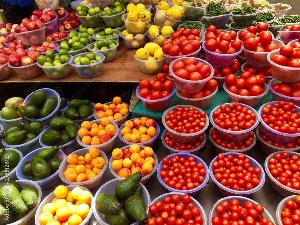apple: (0, 6, 80, 68)
apricot: (37, 186, 91, 224), (111, 141, 157, 179), (64, 147, 106, 187), (77, 118, 117, 148), (121, 114, 159, 144), (92, 100, 128, 124)
avocado: (90, 174, 152, 224), (0, 178, 46, 218), (38, 114, 80, 146), (16, 91, 62, 120), (22, 144, 62, 174), (0, 120, 42, 144), (63, 97, 101, 121), (0, 147, 28, 175)
lemon: (121, 0, 180, 66)
lime: (74, 2, 122, 72)
tomato: (136, 62, 218, 102), (208, 104, 260, 152), (164, 100, 208, 152), (210, 153, 264, 191), (150, 188, 204, 224), (260, 103, 300, 149), (255, 151, 300, 191), (158, 154, 208, 190), (208, 198, 270, 225), (235, 26, 274, 60), (163, 22, 196, 58), (206, 26, 242, 58), (222, 75, 270, 99), (272, 195, 300, 225), (272, 38, 300, 66)
